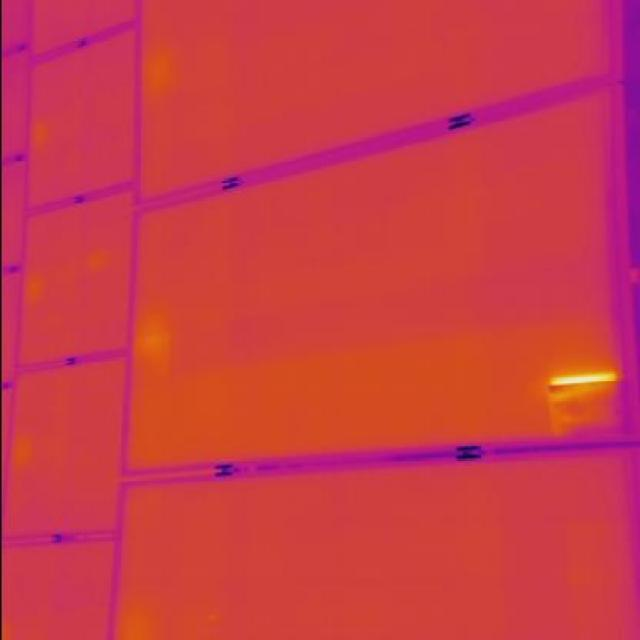hotspot: (538, 364, 625, 444)
